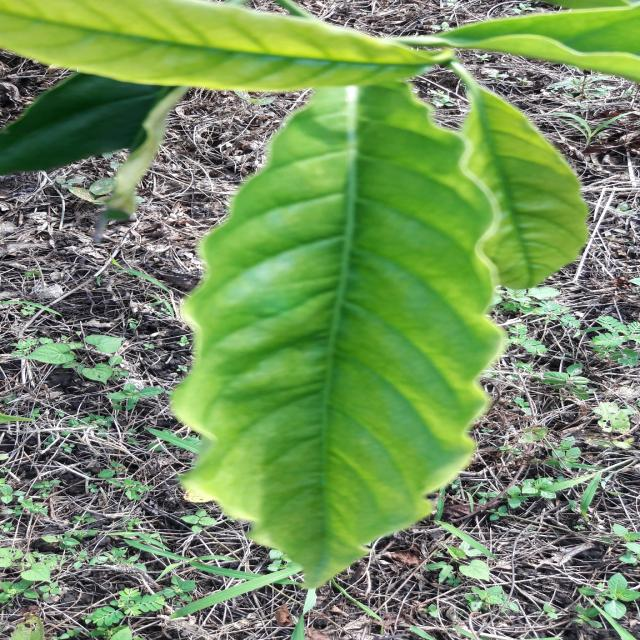Sanas: (170, 67, 522, 596)
